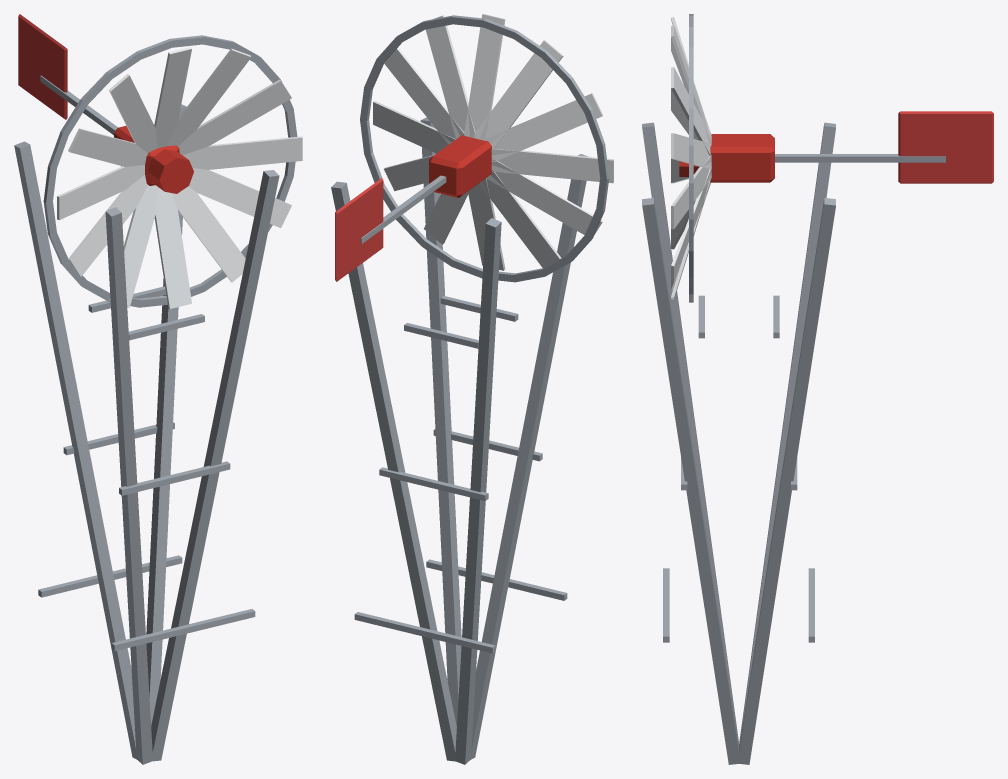
Rendered from windmill.glb.
3 renders of one model, left to right at view 1: azimuth 30°, elevation 25°; view 2: azimuth 150°, elevation 25°; view 3: azimuth 270°, elevation 25°, orthographic. The views are drawn at different scales.
Visible parts, largest first — view 1: Tower, Blades; view 2: Tower, Blades; view 3: Tower, Blades.
Boxes of the visible parts, <box> form: Tower: <box>14,14,279,764</box>; Blades: <box>43,35,302,308</box>; Tower: <box>331,117,588,764</box>; Blades: <box>360,14,613,282</box>; Tower: <box>642,111,993,764</box>; Blades: <box>671,14,711,302</box>.
Bounding box in the file's own units: 3.64 × 10.17 × 4.42.
